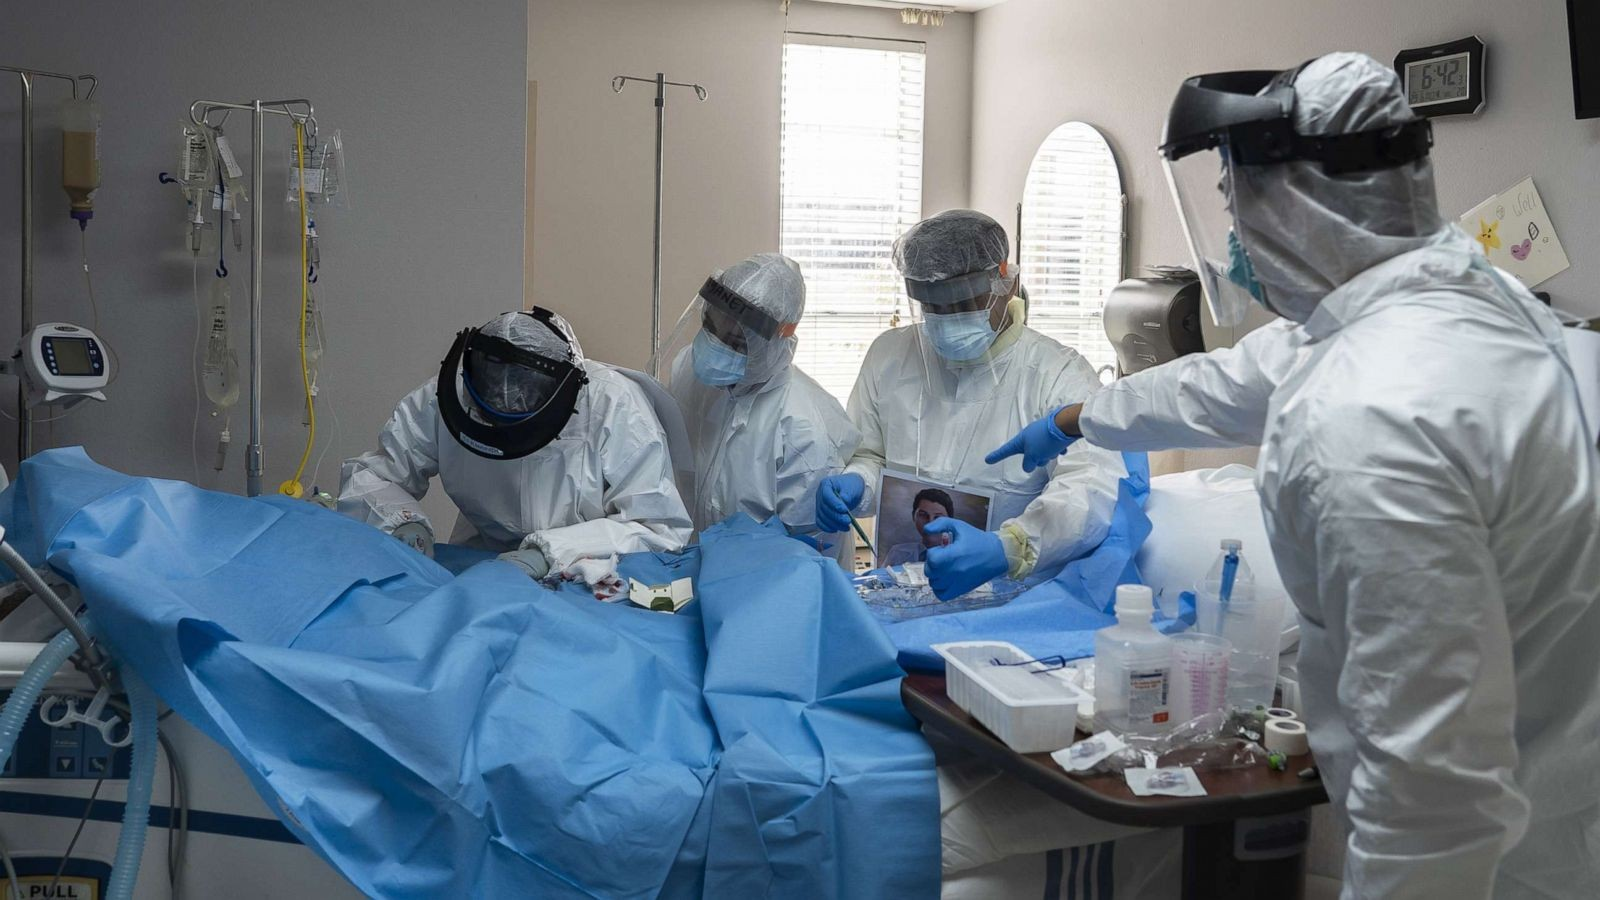Coverall: (1080, 257, 1600, 900), (327, 367, 691, 600), (839, 322, 1129, 591), (641, 348, 848, 529)
Face_Shield: (1148, 62, 1448, 339), (430, 320, 594, 465), (643, 274, 793, 425), (894, 253, 1025, 405)
Gloves: (915, 510, 1010, 610), (968, 401, 1082, 477), (810, 463, 867, 541), (493, 539, 551, 588), (393, 517, 441, 560)
with_mask: (1212, 172, 1291, 317), (917, 301, 1003, 370), (686, 312, 753, 398)
